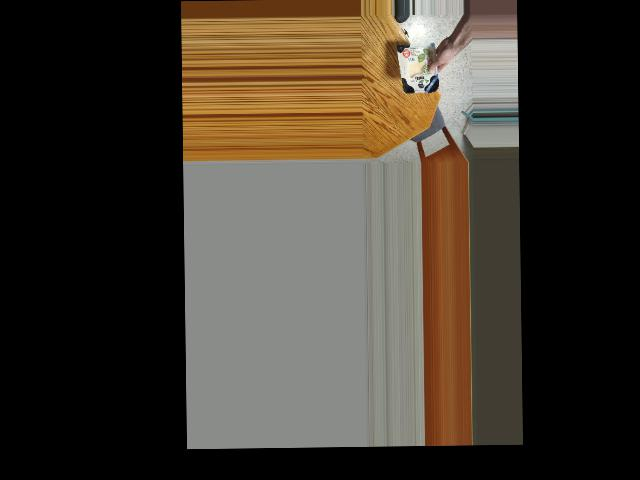cheese: (403, 33, 442, 100)
